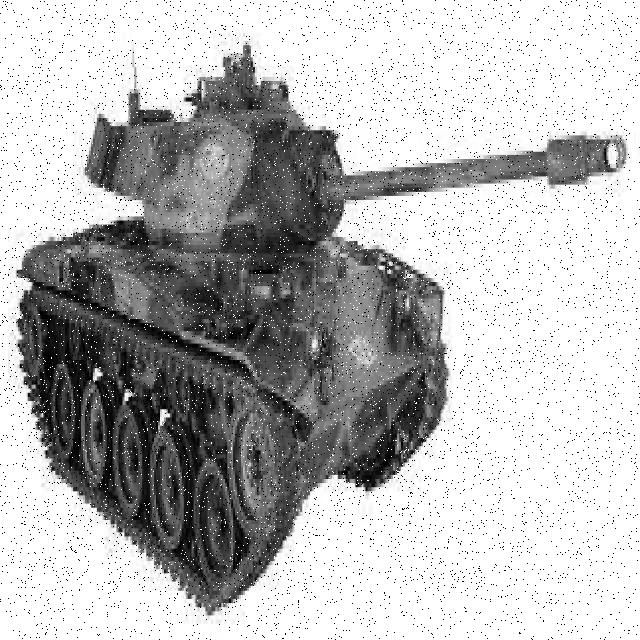MIL_MBT: (13, 68, 533, 588)
